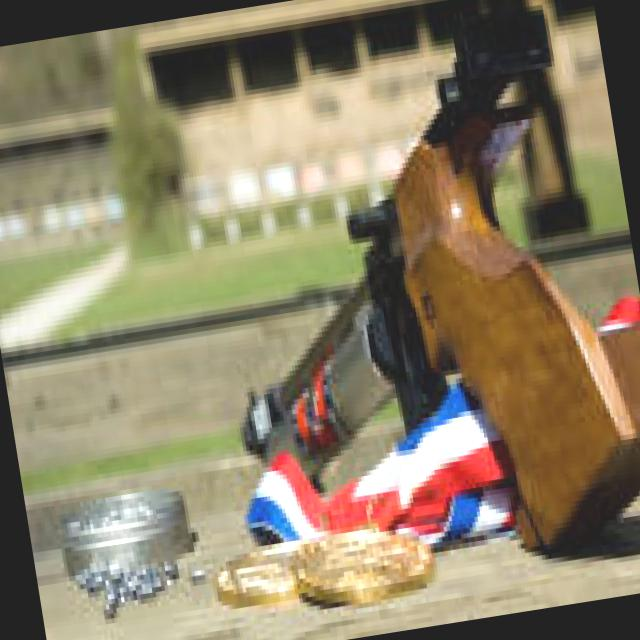handgun: (174, 0, 639, 595)
